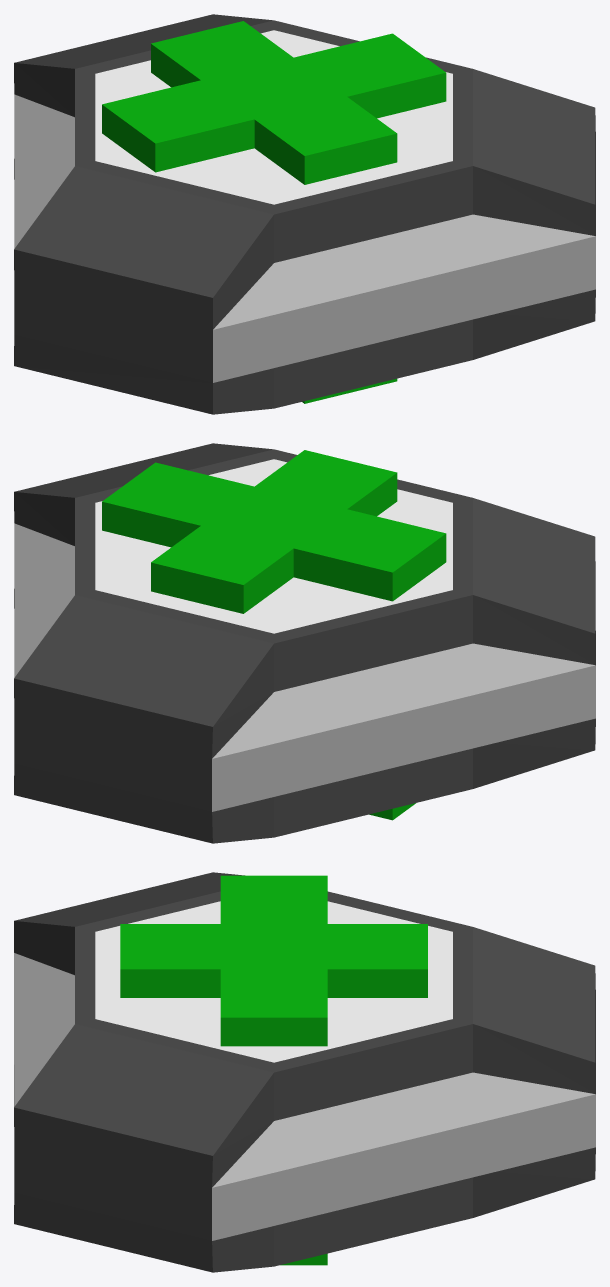
Rendered from HealthPickup.fbx.
3 views of the same model, one above another, from view 1: azimuth 30°, elevation 25°; view 2: azimuth 150°, elevation 25°; view 3: azimuth 270°, elevation 25° (orthographic).
Visible parts, largest first — view 1: Health; view 2: Health; view 3: Health.
Part boxes in pixels (bbox=[...]): Health: bbox=[14, 14, 595, 414]; Health: bbox=[14, 443, 595, 843]; Health: bbox=[14, 872, 595, 1272].
Bounding box in the file's own units: 6.27 × 2.55 × 5.44.
Materials: 1 (1 with a texture image).
